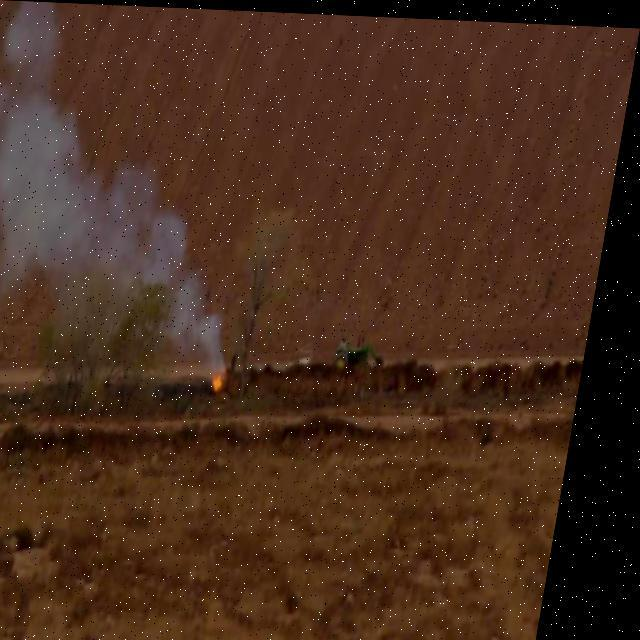Fire: (220, 359, 240, 395)
